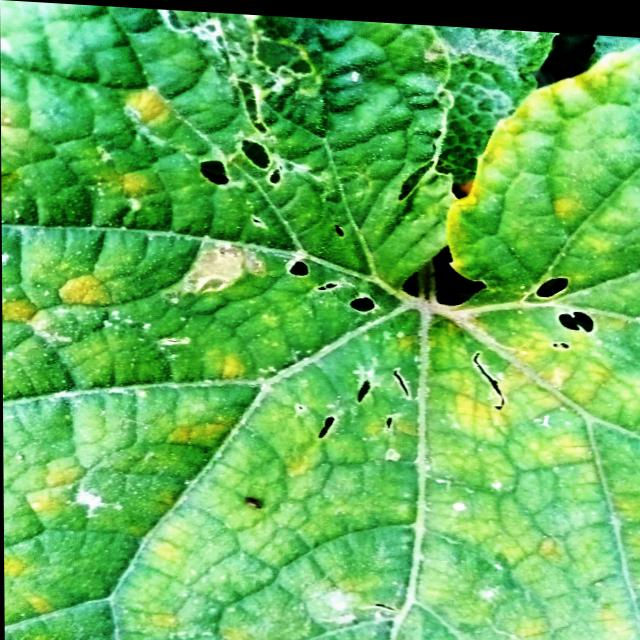Anthracnose: (196, 30, 321, 195), (285, 215, 378, 321), (317, 361, 414, 446), (530, 269, 599, 357)
